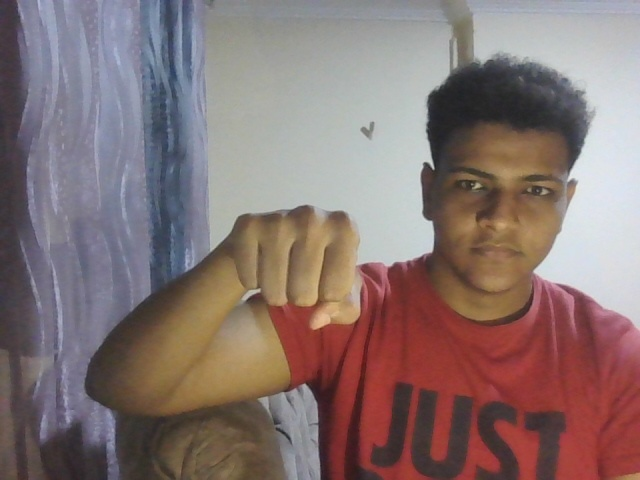yes: (217, 178, 371, 357)
